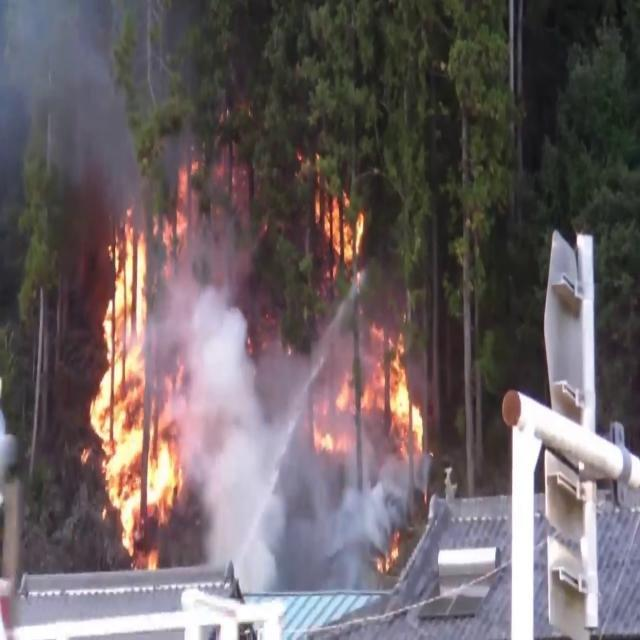Fire: (79, 208, 187, 556), (316, 316, 428, 459)
Smoke: (157, 205, 316, 592), (0, 1, 228, 259)
